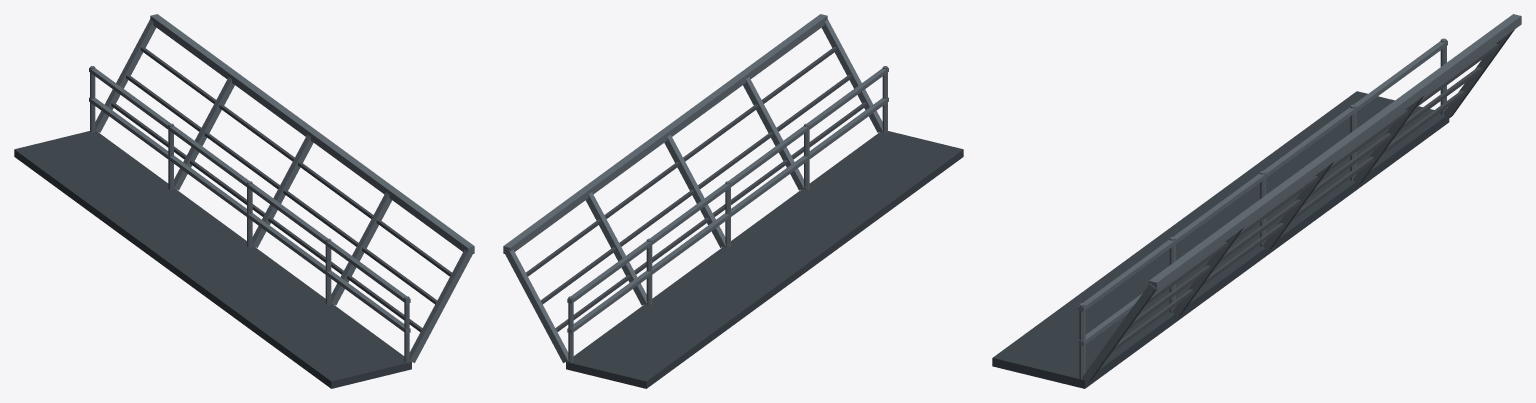
File: env_fallow_catwalk.fbx
The picture shows the model from 3 angles, left to right: view 1: azimuth 30°, elevation 25°; view 2: azimuth 150°, elevation 25°; view 3: azimuth 330°, elevation 25°; orthographic projection. The views are drawn at different scales.
Visible parts, largest first — view 1: env_fallow_catwalk; view 2: env_fallow_catwalk; view 3: env_fallow_catwalk.
Part boxes in pixels (box(x1,y1,x2,y2)): env_fallow_catwalk: box(14, 14, 474, 388); env_fallow_catwalk: box(503, 14, 963, 388); env_fallow_catwalk: box(992, 14, 1521, 388).
Bounding box in the file's own units: 605 × 435 × 2325.
